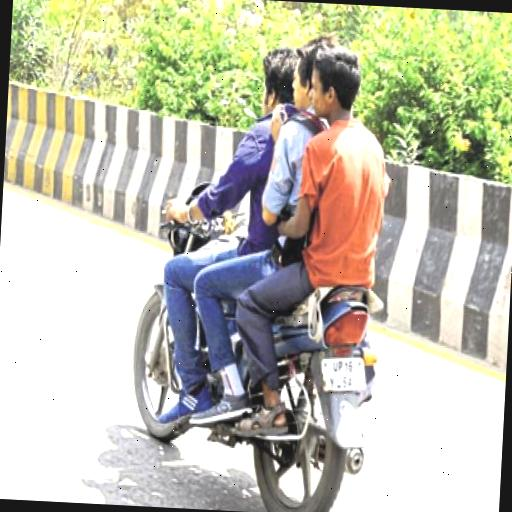no helmet: (250, 31, 300, 147)
triple riding: (209, 0, 386, 461)
